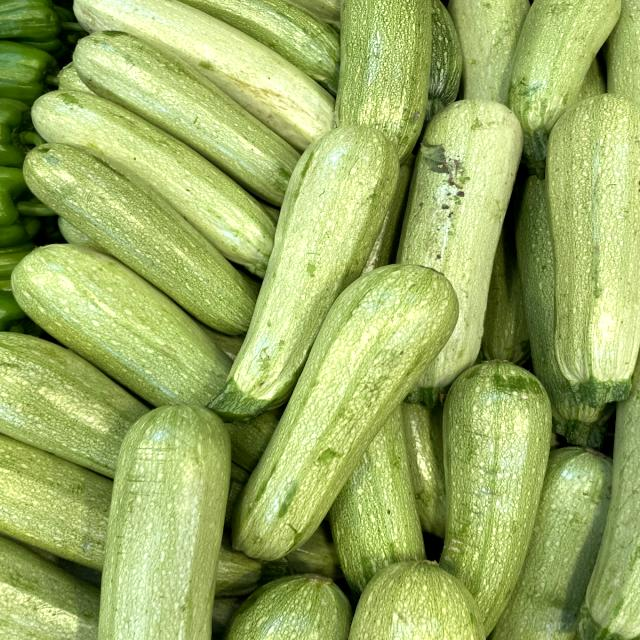zucchini: (214, 257, 478, 566), (199, 114, 420, 423), (541, 87, 640, 411)
